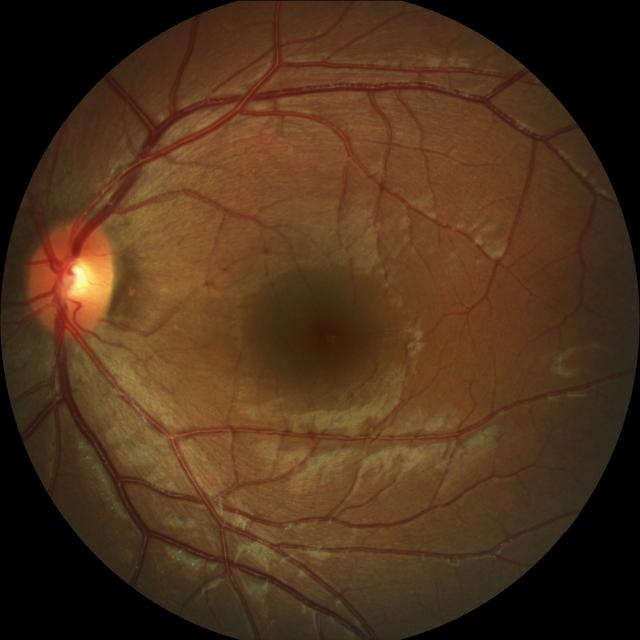OC: (54, 255, 98, 305)
OD: (25, 219, 113, 335)
